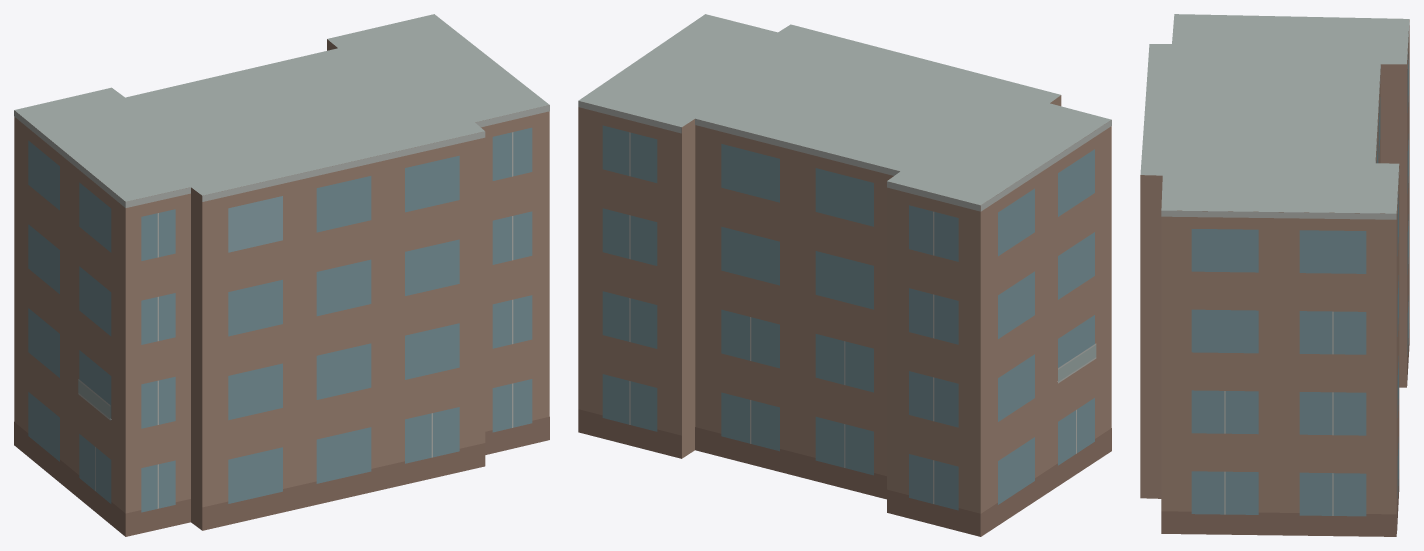
The model's file is survey-upis-33010574.glb.
3 views of the same model, side by side, from view 1: azimuth 30°, elevation 25°; view 2: azimuth 150°, elevation 25°; view 3: azimuth 270°, elevation 25° (orthographic). The views are drawn at different scales.
Parts seen in each view (by area): view 1: survey-upis-33010574.tmp; view 2: survey-upis-33010574.tmp; view 3: survey-upis-33010574.tmp.
Boxes of the visible parts, bbox=[...] form: survey-upis-33010574.tmp: bbox=[14, 14, 549, 536]; survey-upis-33010574.tmp: bbox=[578, 14, 1111, 536]; survey-upis-33010574.tmp: bbox=[1140, 14, 1409, 536].
Size of the model in its own units: 16.96 by 12.8 by 9.67.
